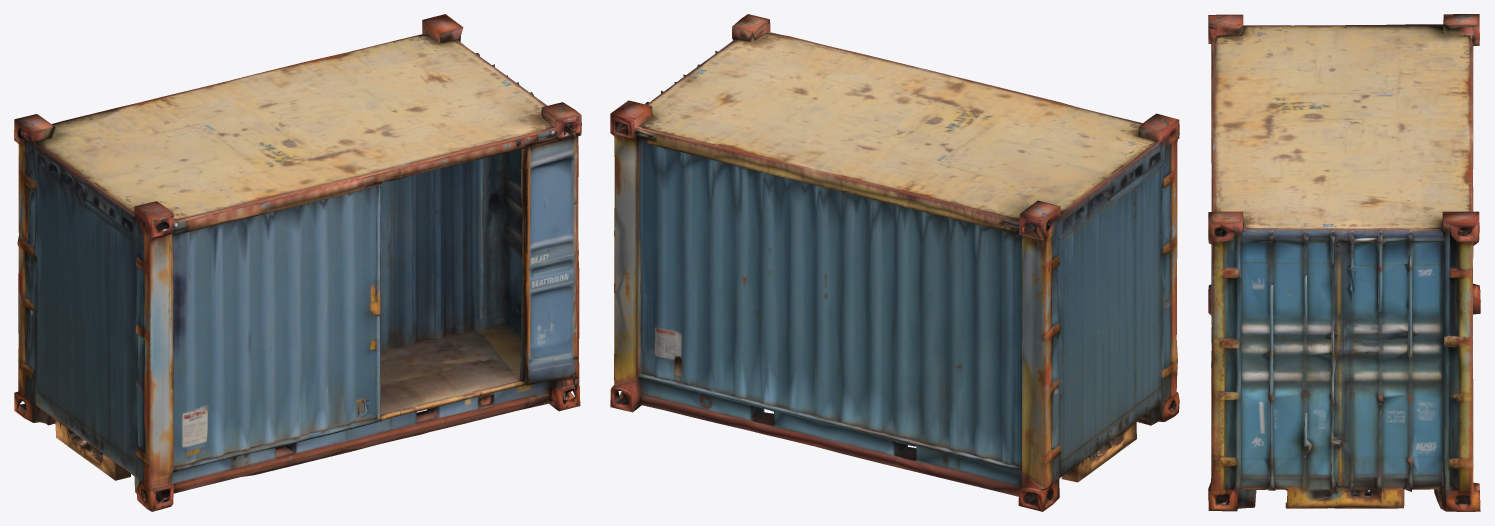
Rendered from seatrain.glb.
3 views of the same model, side by side, from view 1: azimuth 30°, elevation 25°; view 2: azimuth 150°, elevation 25°; view 3: azimuth 270°, elevation 25° (orthographic).
Size of the model in its own units: 2 by 1.31 by 1.1.
Materials: 1 (1 with a texture image).
